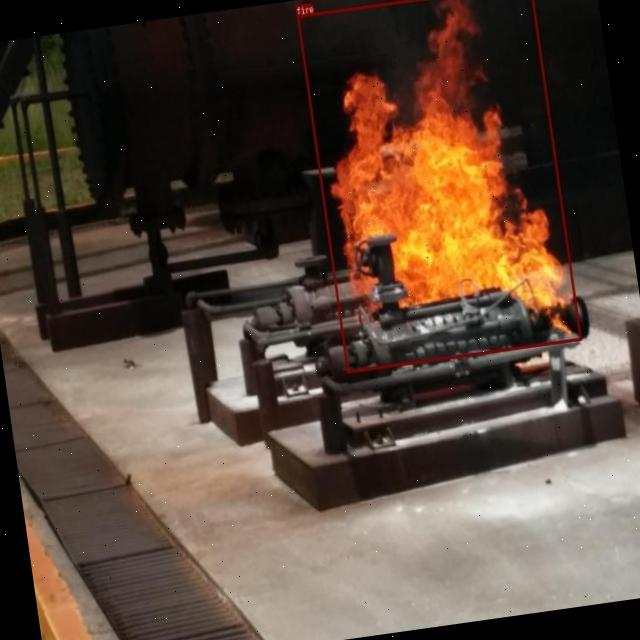fire: (296, 0, 581, 372)
